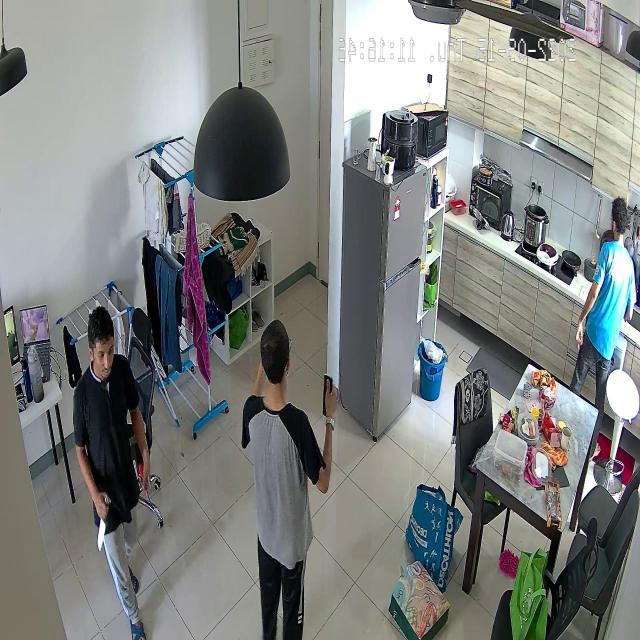Knife: (90, 486, 118, 556)
